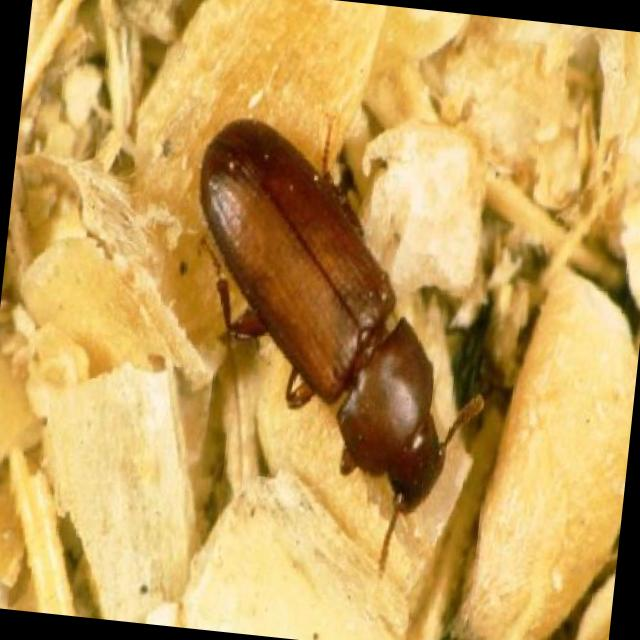rice-bug: (197, 115, 449, 521)
